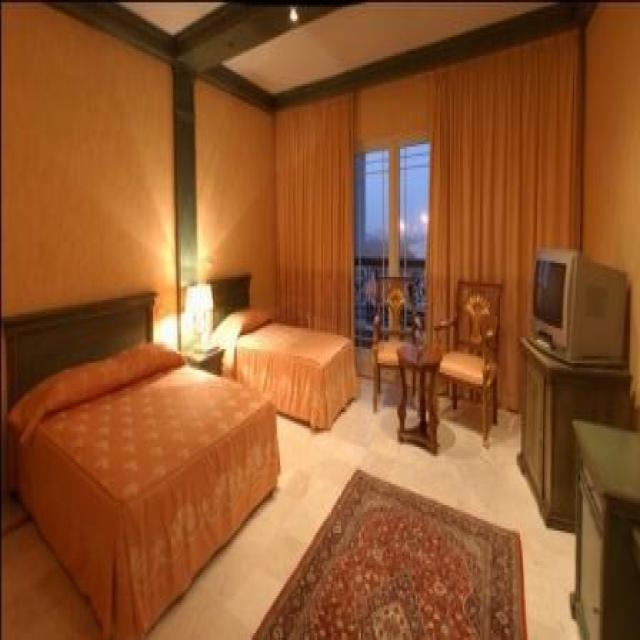other: (163, 270, 239, 385)
